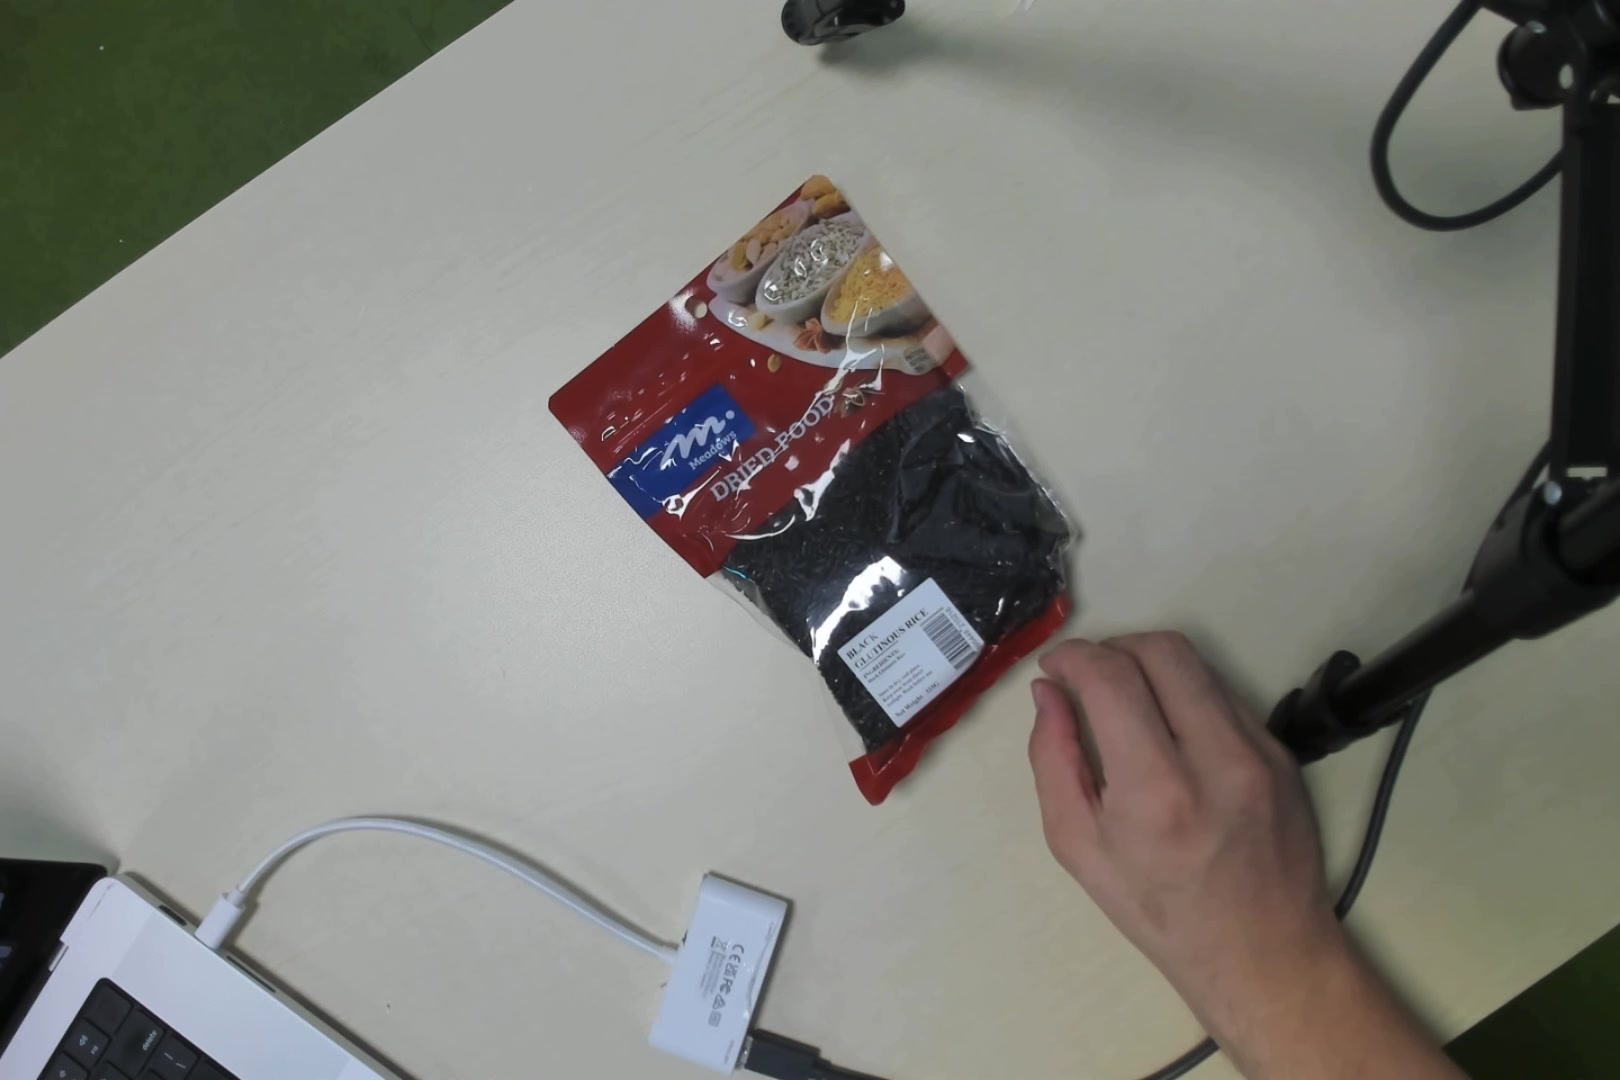OtherDriedFood_100-199g_NonHalal_NonHealthy: (647, 237, 1086, 736)
